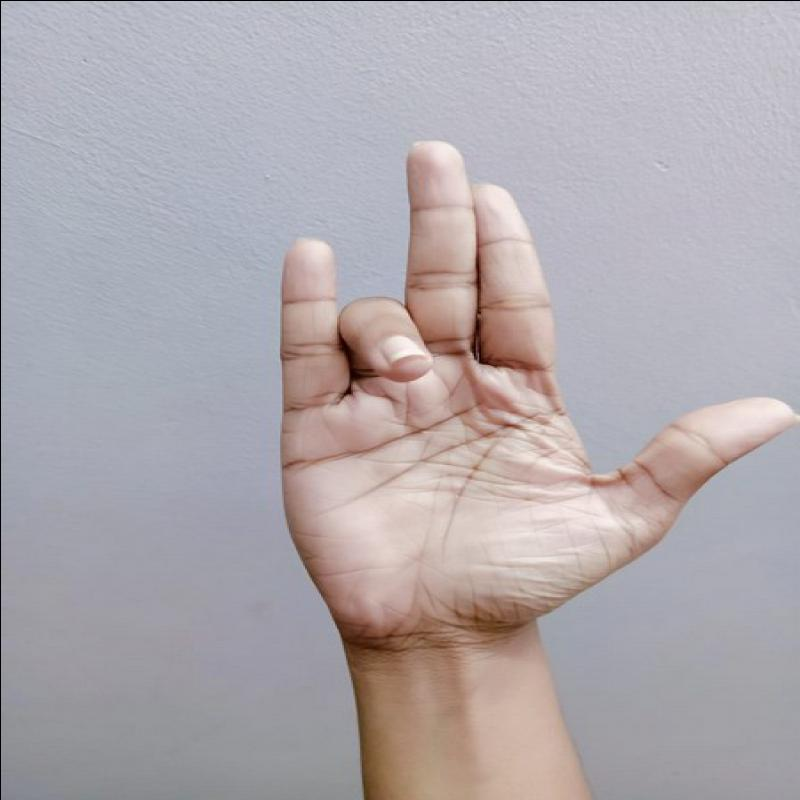Pathaaka: (258, 132, 800, 665)
